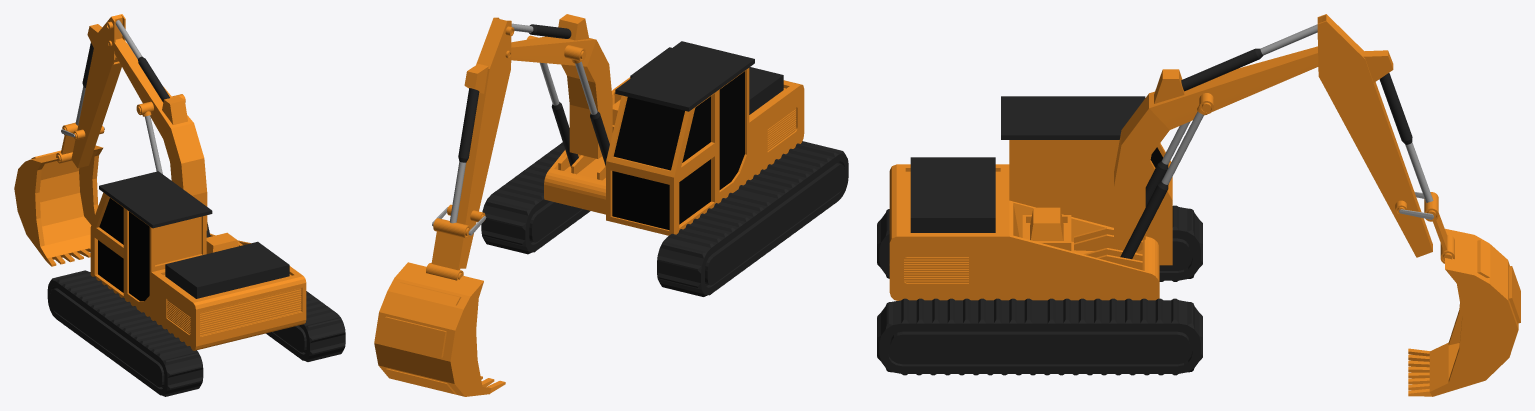
File: mine rock machine.fbx
3 renders of one model, left to right at view 1: azimuth 30°, elevation 25°; view 2: azimuth 150°, elevation 25°; view 3: azimuth 270°, elevation 25°, orthographic. The views are drawn at different scales.
Visible parts, largest first — view 1: Cube.001; view 2: Cube.001; view 3: Cube.001.
Part boxes in pixels (<box>): Cube.001: <box>14,14,345,396</box>; Cube.001: <box>374,14,848,396</box>; Cube.001: <box>877,14,1520,396</box>.
Bounding box in the file's own units: 80.55 × 114 × 185.
